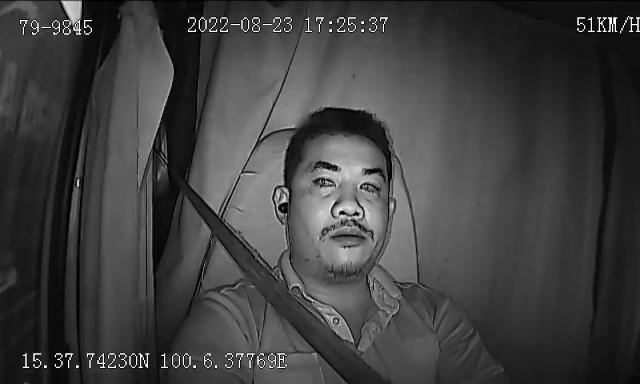SafeDriving: (354, 170, 386, 200), (308, 167, 341, 194)
Seatbelt: (158, 148, 400, 384)
